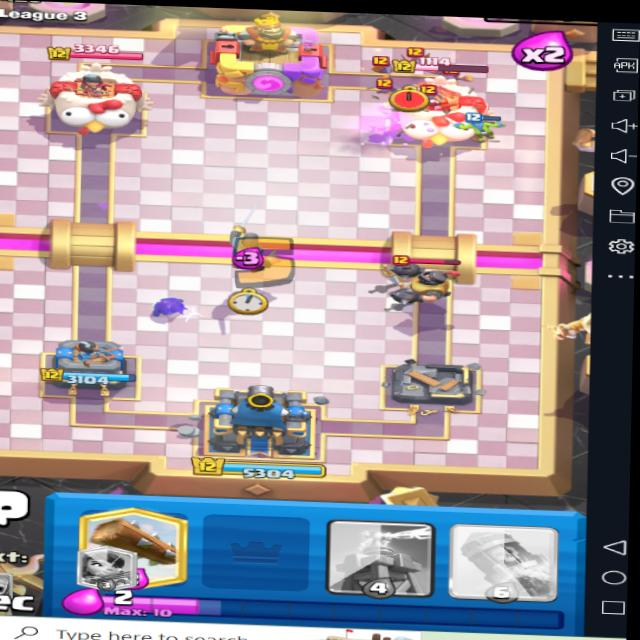bats: (363, 80, 405, 100), (364, 53, 393, 78), (414, 85, 444, 109), (399, 39, 428, 63)
mega-knight: (363, 245, 490, 322)
